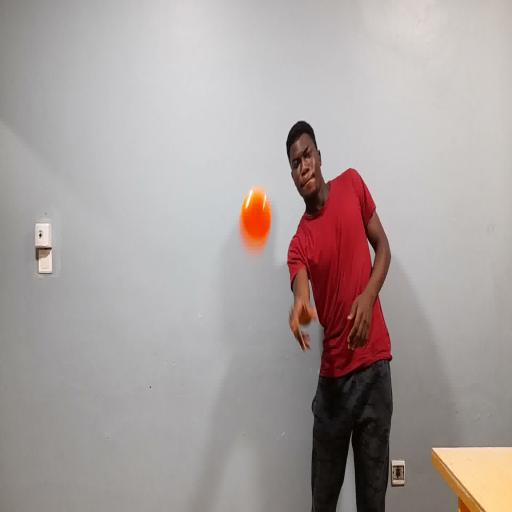plastic-ball: (232, 179, 281, 258)
